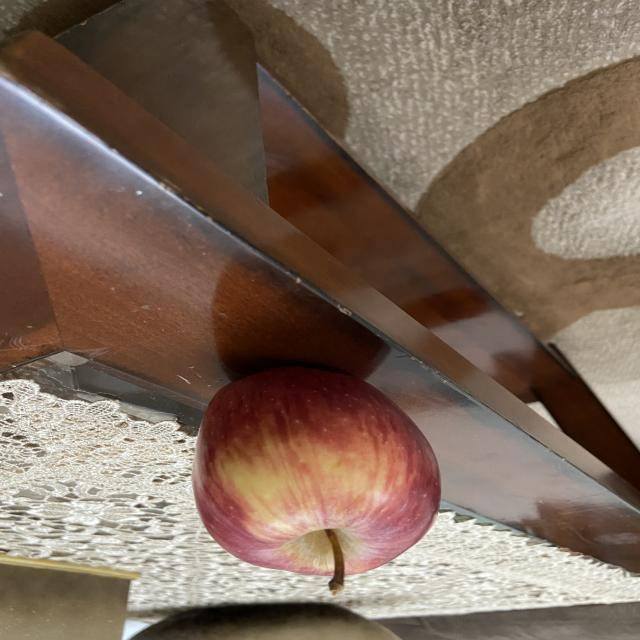apple: (185, 356, 446, 600)
